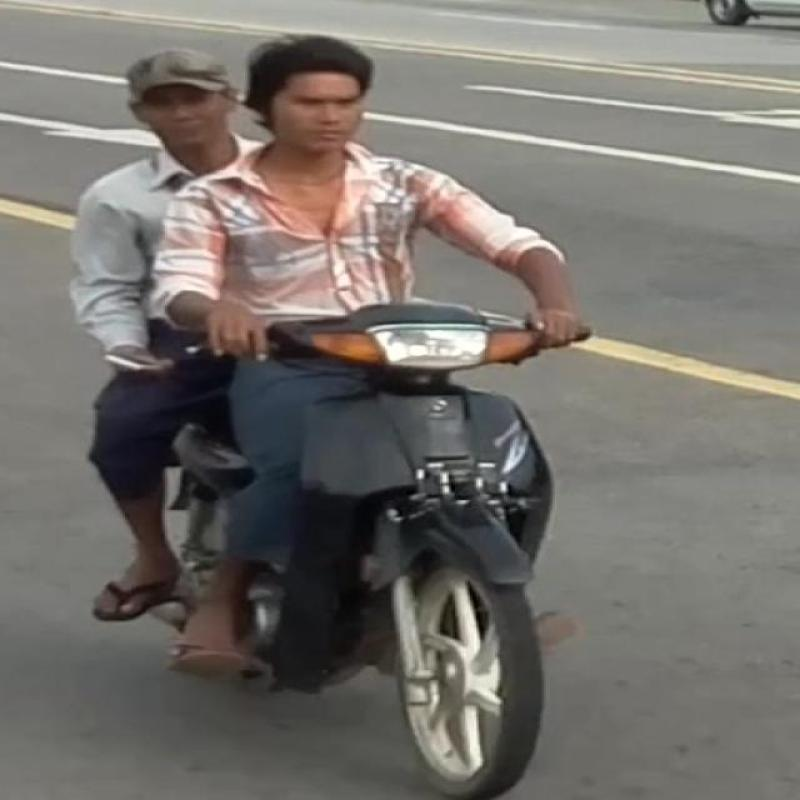nohelmet: (244, 24, 412, 175), (117, 35, 233, 150)
